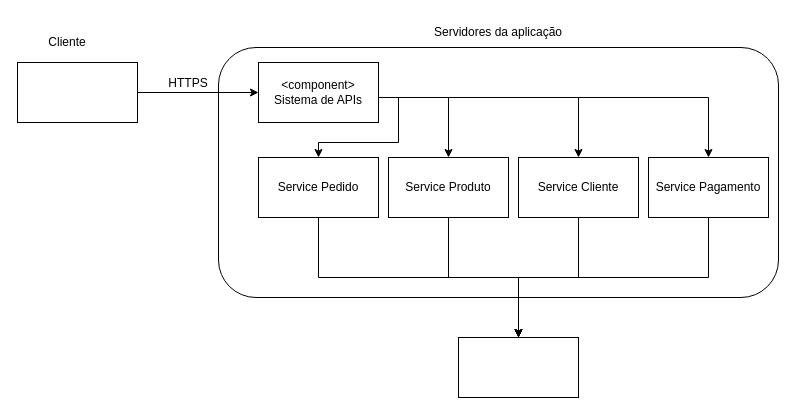
This 796x415 diagram has some shape labels left out. The centre of each missing label's shape, as x and y in pixels:
"<component> Banco de Dados" belongs at (518,367).
"<component> Interface Web" belongs at (77,92).
